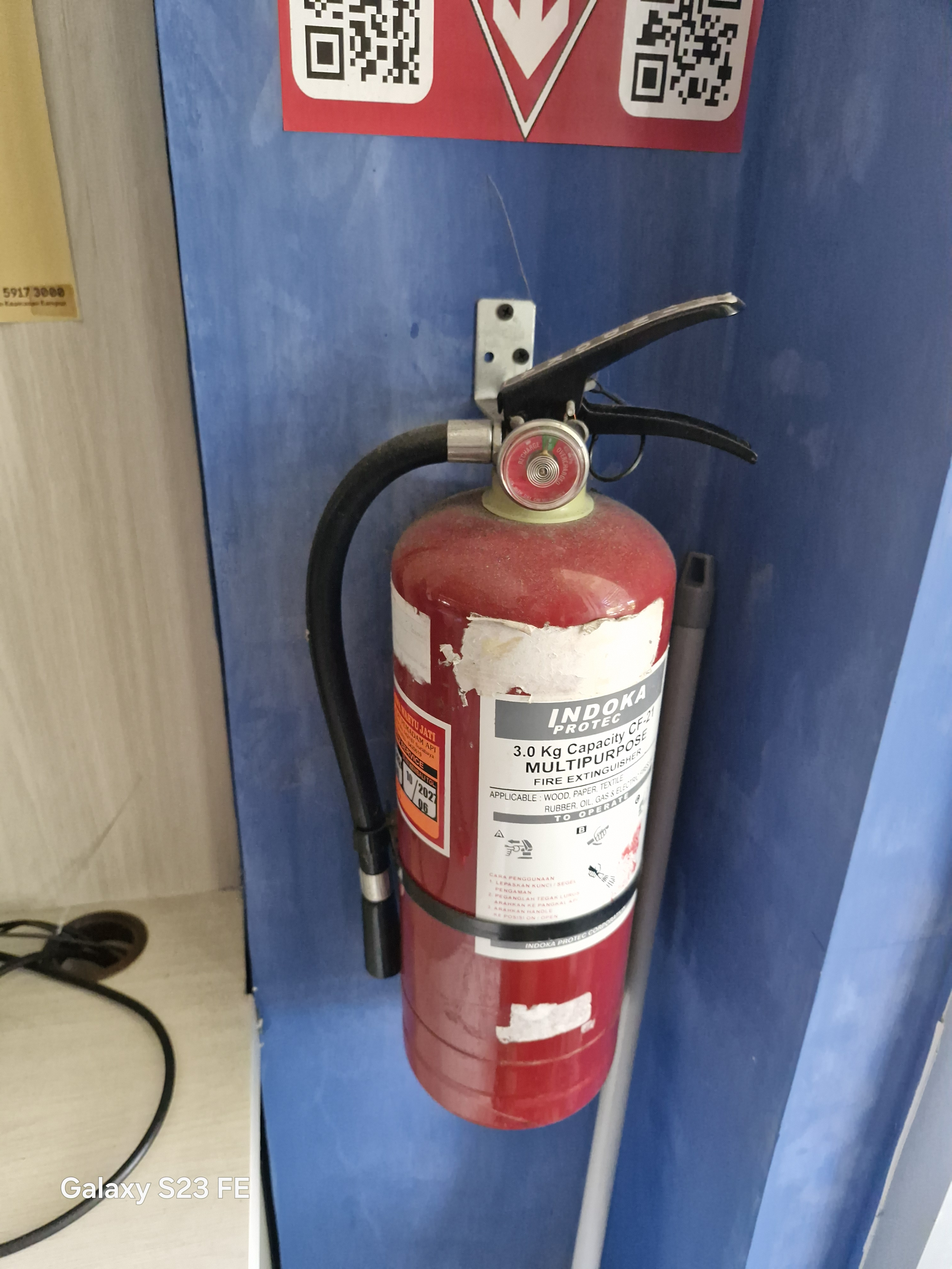fire-extinguisher: (305, 294, 755, 1128)
table-merged: (0, 888, 260, 1268)
wall-other-merged: (152, 0, 951, 1268), (0, 0, 241, 894), (341, 461, 492, 821)
